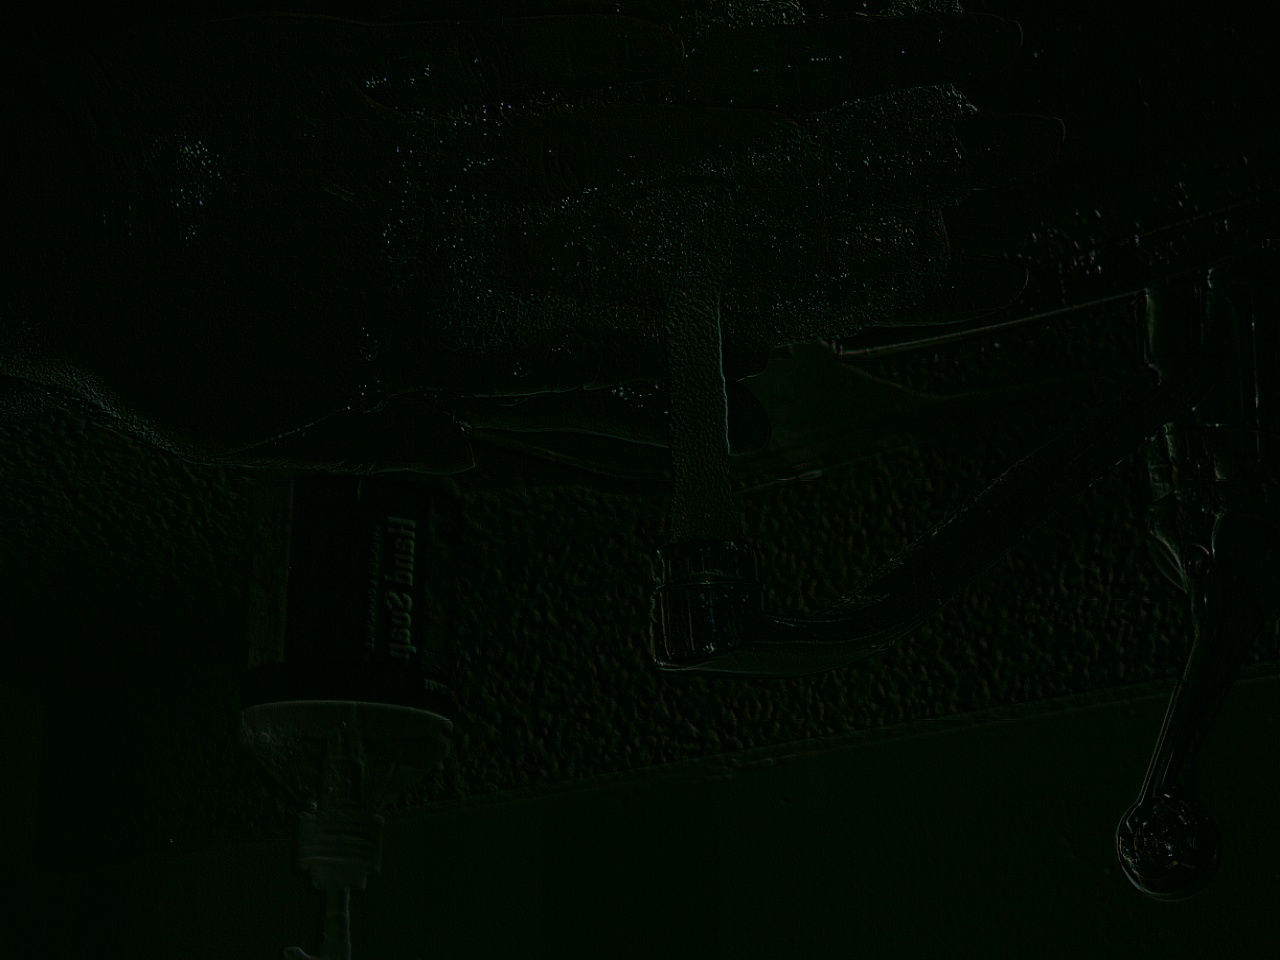washing hand: (131, 0, 1128, 712)
